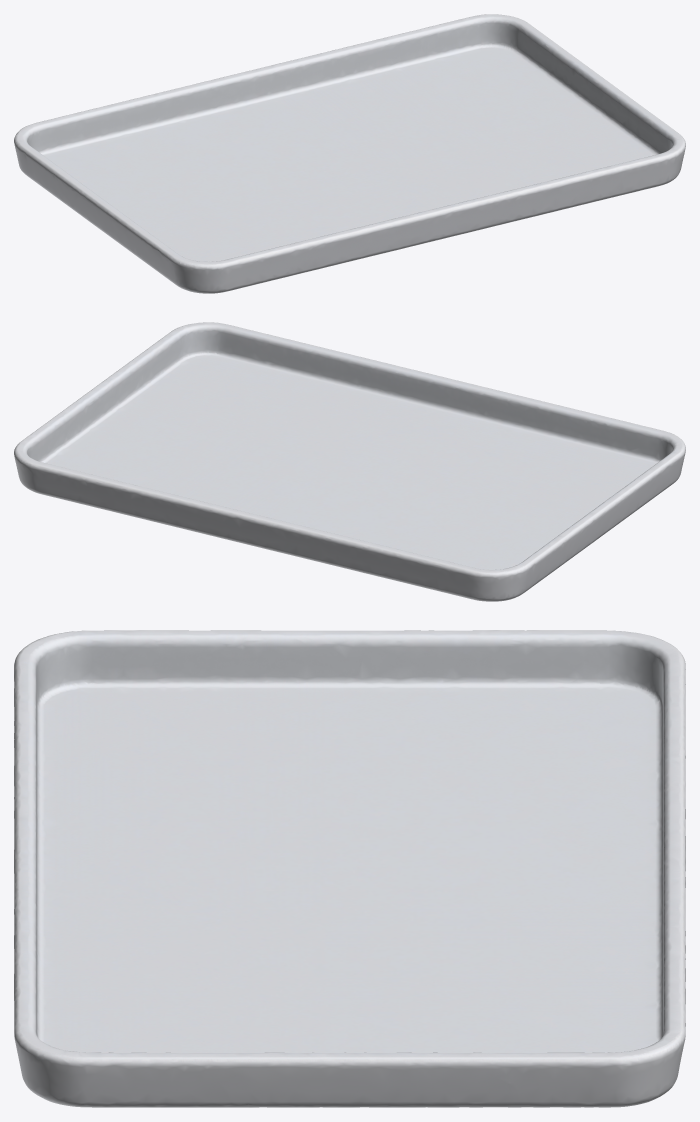
File: Meshy_AI_트레이_20261124_texture.fbx
3 views of the same model, one above another, from view 1: azimuth 30°, elevation 25°; view 2: azimuth 150°, elevation 25°; view 3: azimuth 270°, elevation 25° (orthographic). The views are drawn at different scales.
Visible parts, largest first — view 1: Mesh_0; view 2: Mesh_0; view 3: Mesh_0.
Boxes of the visible parts, x1,y1,x2,y2 form: Mesh_0: (14,14,685,293); Mesh_0: (14,322,685,601); Mesh_0: (14,630,685,1107).
Bounding box in the file's own units: 190 × 11.58 × 125.
1 material, 1 textured.
